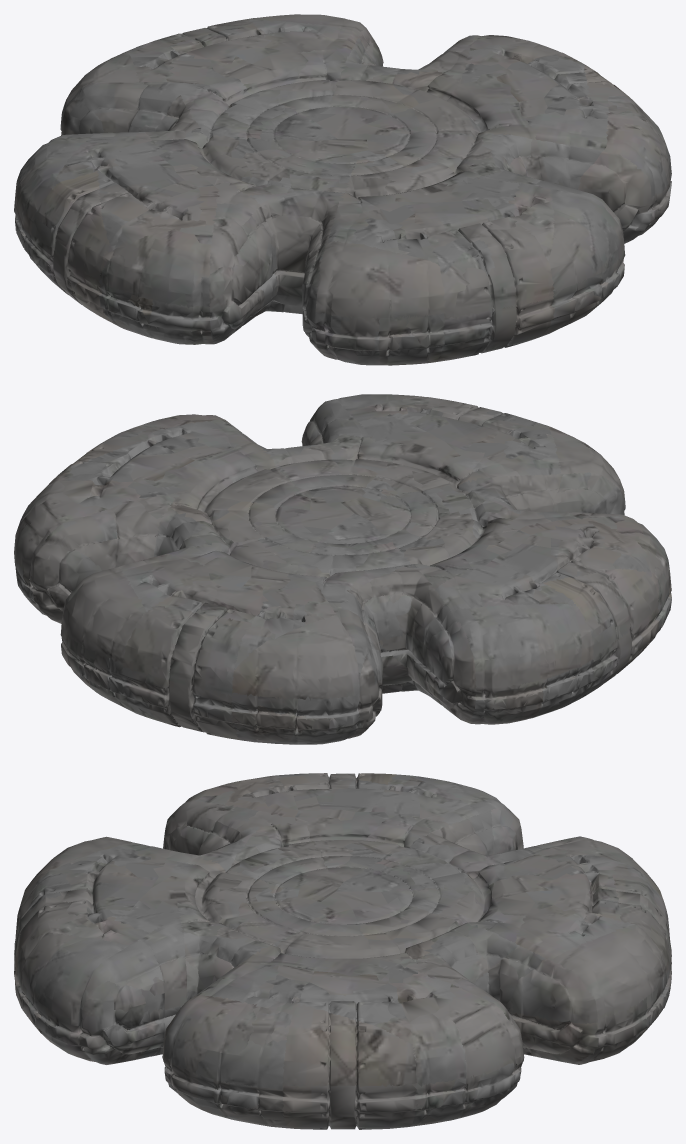
File: arc-hush-lean.glb
The picture shows the model from 3 angles, top to bottom: view 1: azimuth 30°, elevation 25°; view 2: azimuth 150°, elevation 25°; view 3: azimuth 270°, elevation 25°; orthographic projection.
Visible parts, largest first — view 1: chassis; view 2: chassis; view 3: chassis.
Boxes of the visible parts, x1=… form: chassis: x1=14, y1=14, x2=671, y2=365; chassis: x1=14, y1=394, x2=671, y2=744; chassis: x1=14, y1=773, x2=671, y2=1129.
Size of the model in its own units: 0.9897 by 0.1991 by 0.9896.
Materials: 1 (1 with a texture image).
